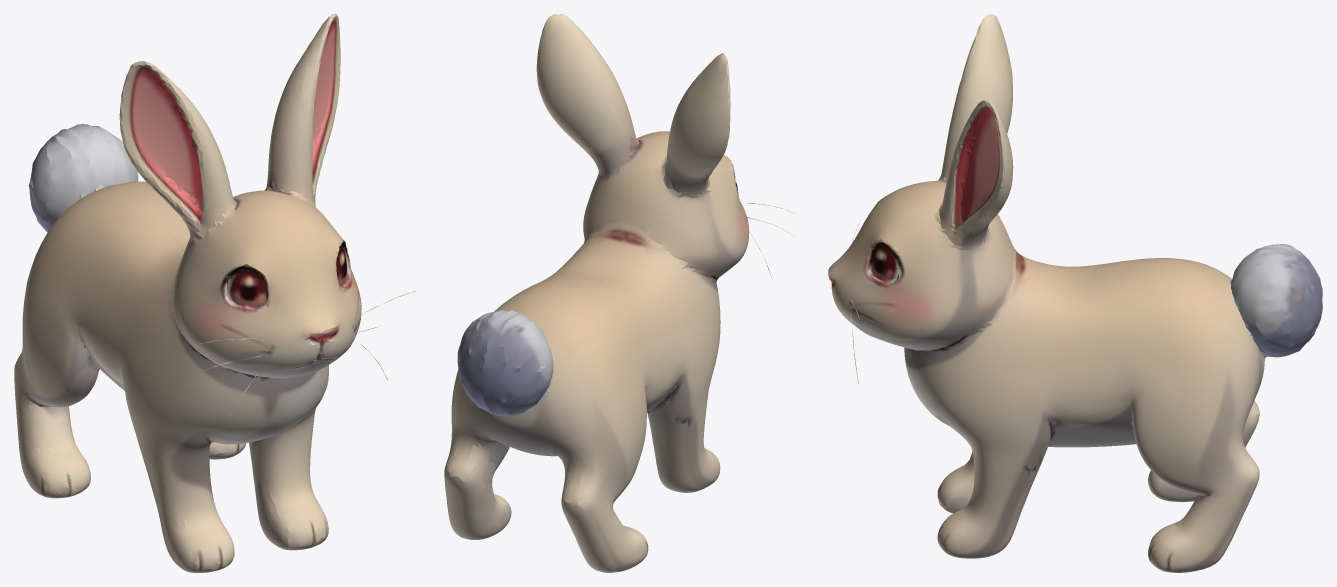
Rendered from rabbit.glb.
3 renders of one model, left to right at view 1: azimuth 30°, elevation 25°; view 2: azimuth 150°, elevation 25°; view 3: azimuth 270°, elevation 25°, orthographic. The views are drawn at different scales.
Parts seen in each view (by area): view 1: rabbit; view 2: rabbit; view 3: rabbit.
Boxes of the visible parts, x1,y1,x2,y2 form: rabbit: (14, 14, 415, 572); rabbit: (444, 14, 799, 572); rabbit: (828, 14, 1322, 572).
Size of the model in its own units: 0.867 by 1.9 by 1.8.
Materials: 1 (1 with a texture image).
